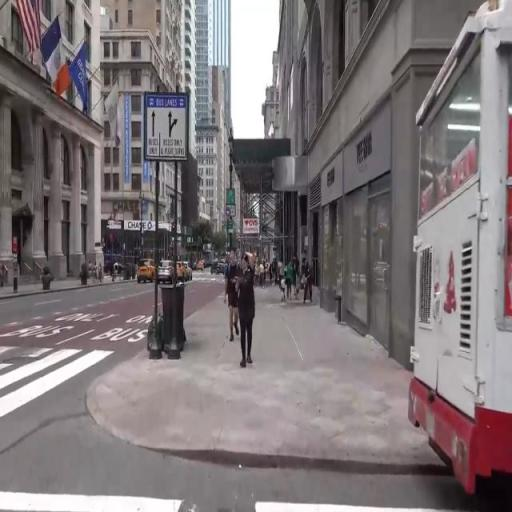person: (238, 254, 259, 371), (228, 247, 240, 340), (303, 260, 316, 310), (287, 261, 296, 304), (261, 261, 267, 293), (280, 275, 287, 301), (278, 259, 285, 281), (274, 258, 277, 290)
